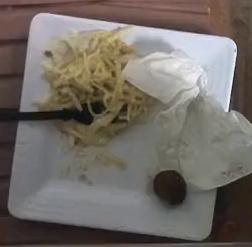meatball: (154, 170, 186, 205)
pasta: (42, 28, 146, 144)
